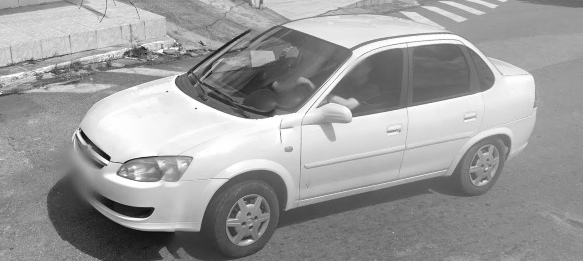car: (72, 13, 539, 257)
